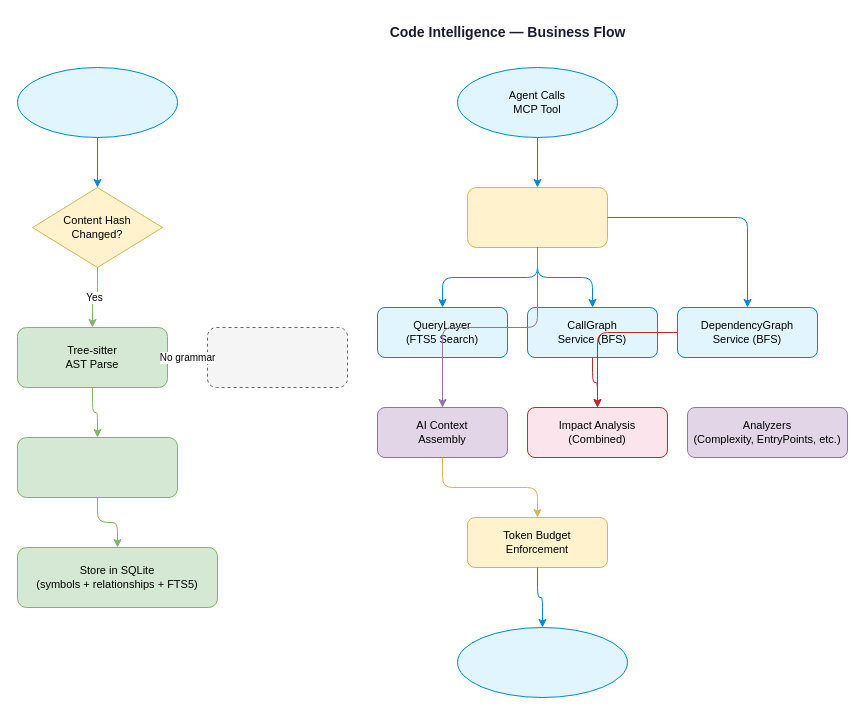
Image size: 865x715. Some labels were removed from this diagram. Here are the shapes that lost their labels. From the top down, the centre of each, then its label:
(97,102): File Change Detected (Watcher)
(537,217): Dispatch to Service
(277,357): Regex Fallback Extraction
(97,467): Extract Symbols + Relationships
(542,662): Return Structured Results to Agent
